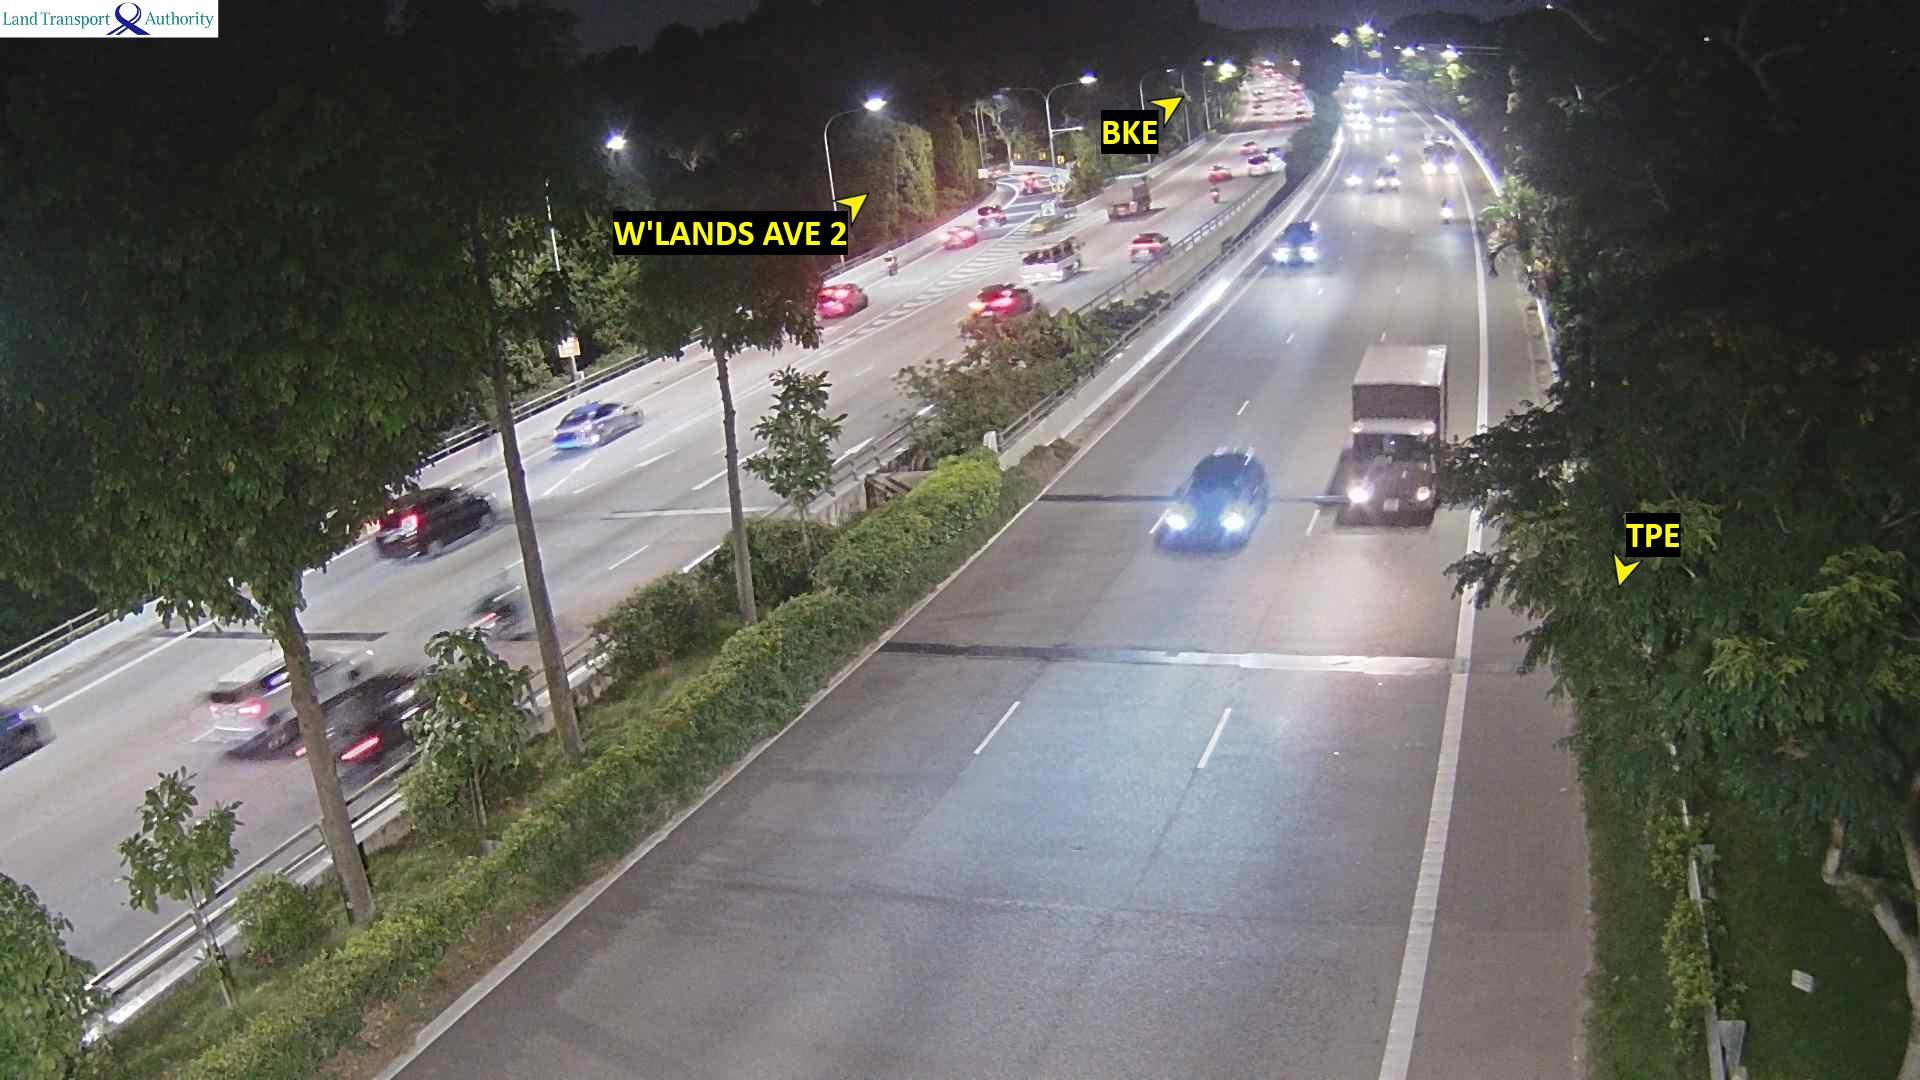incoming: (1343, 432, 1440, 534), (1153, 473, 1256, 555), (1273, 229, 1324, 269), (1422, 142, 1460, 179), (1375, 169, 1402, 192), (1376, 110, 1397, 127), (1442, 208, 1461, 225)
